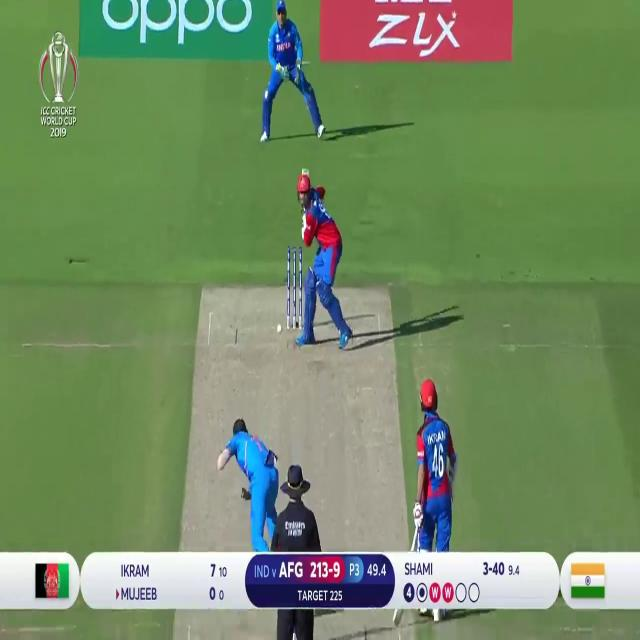ball: (276, 322, 284, 333)
